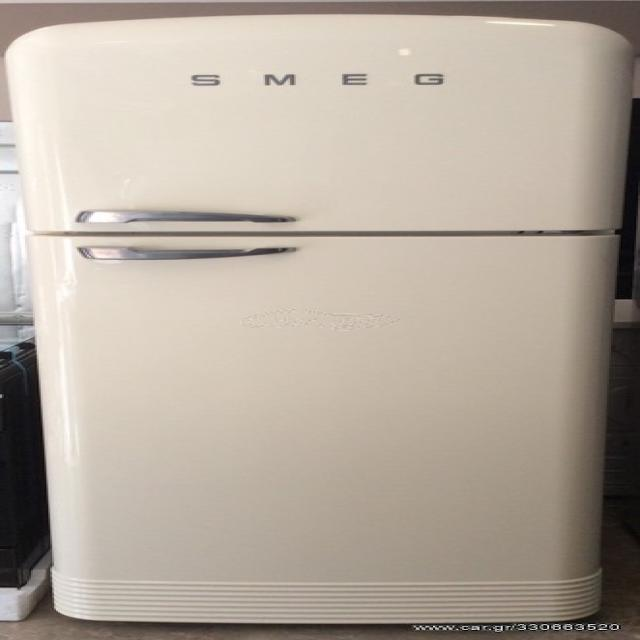refrigerator: (9, 13, 640, 625)
